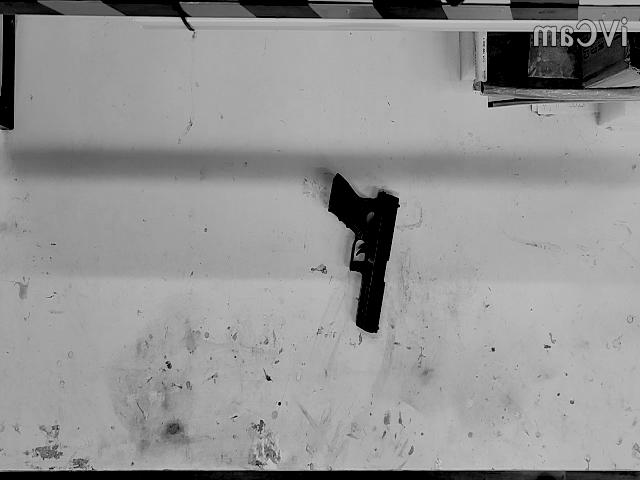Gun: (329, 173, 400, 333)
